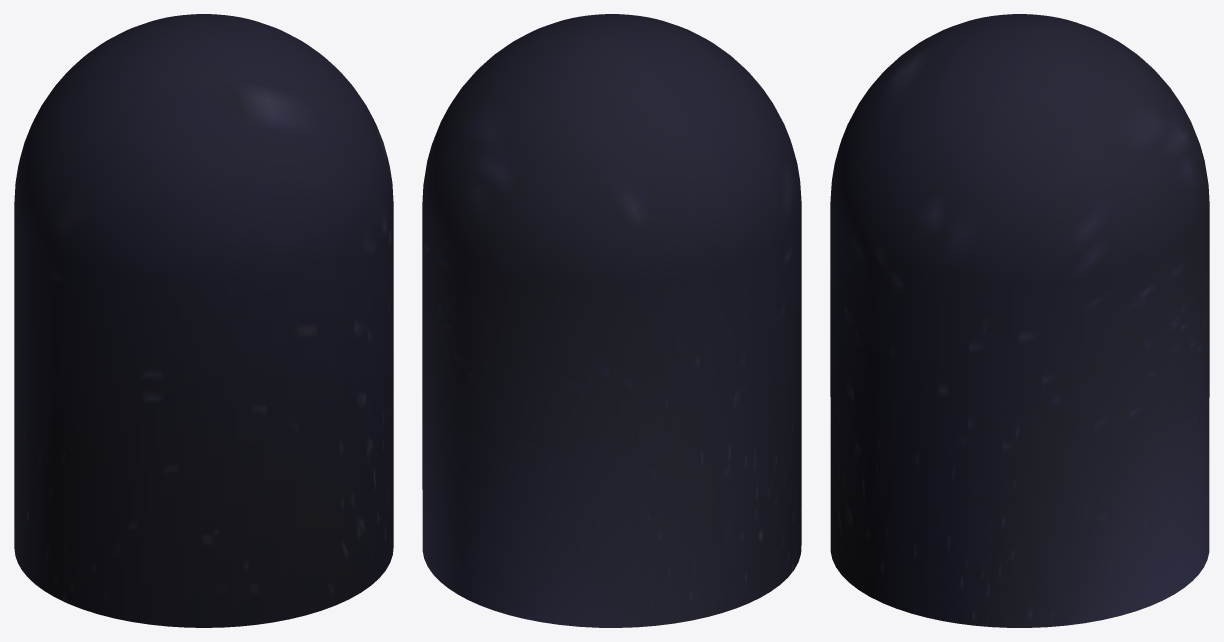
File: flatiron_sky.obj
3 renders of one model, left to right at view 1: azimuth 30°, elevation 25°; view 2: azimuth 150°, elevation 25°; view 3: azimuth 270°, elevation 25°, orthographic.
Size of the model in its own units: 2853 by 4287 by 2853.
